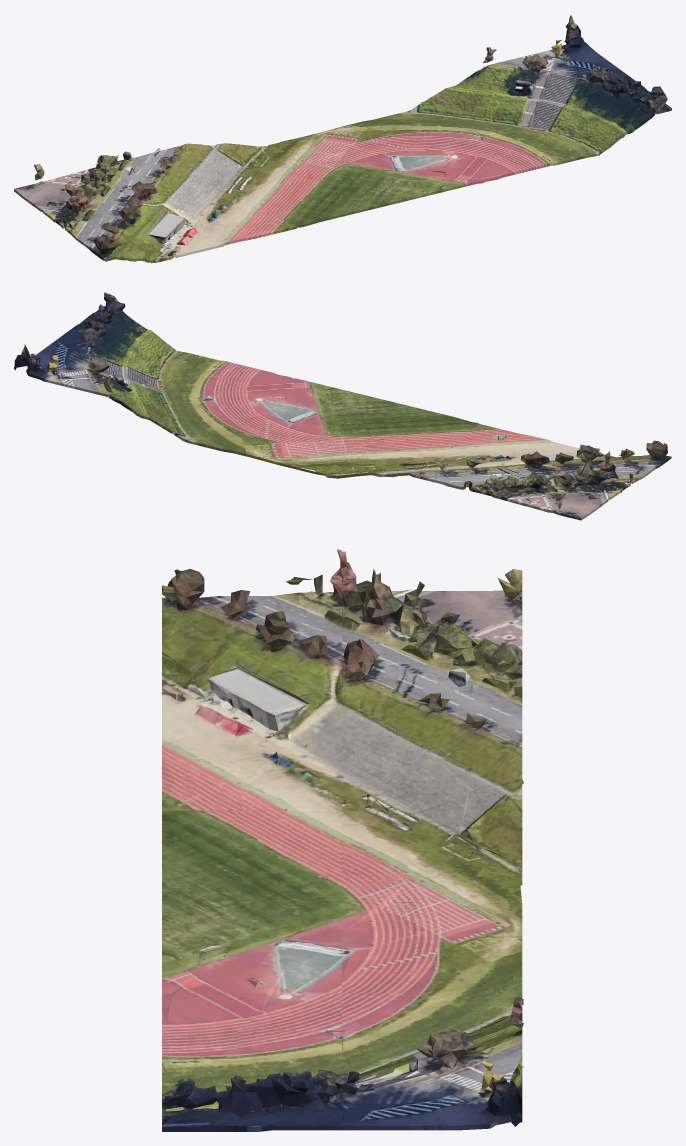
The model's file is Split17.fbx.
3 views of the same model, one above another, from view 1: azimuth 30°, elevation 25°; view 2: azimuth 150°, elevation 25°; view 3: azimuth 270°, elevation 25° (orthographic). The views are drawn at different scales.
Visible parts, largest first — view 1: BuildingMesh-00188; view 2: BuildingMesh-00188; view 3: BuildingMesh-00188.
Part boxes in pixels (<box>): BuildingMesh-00188: <box>14,15,671,263</box>; BuildingMesh-00188: <box>14,292,671,520</box>; BuildingMesh-00188: <box>162,549,523,1131</box>.
Size of the model in its own units: 291 by 29.42 by 80.39.
Materials: 3 (3 with a texture image).
